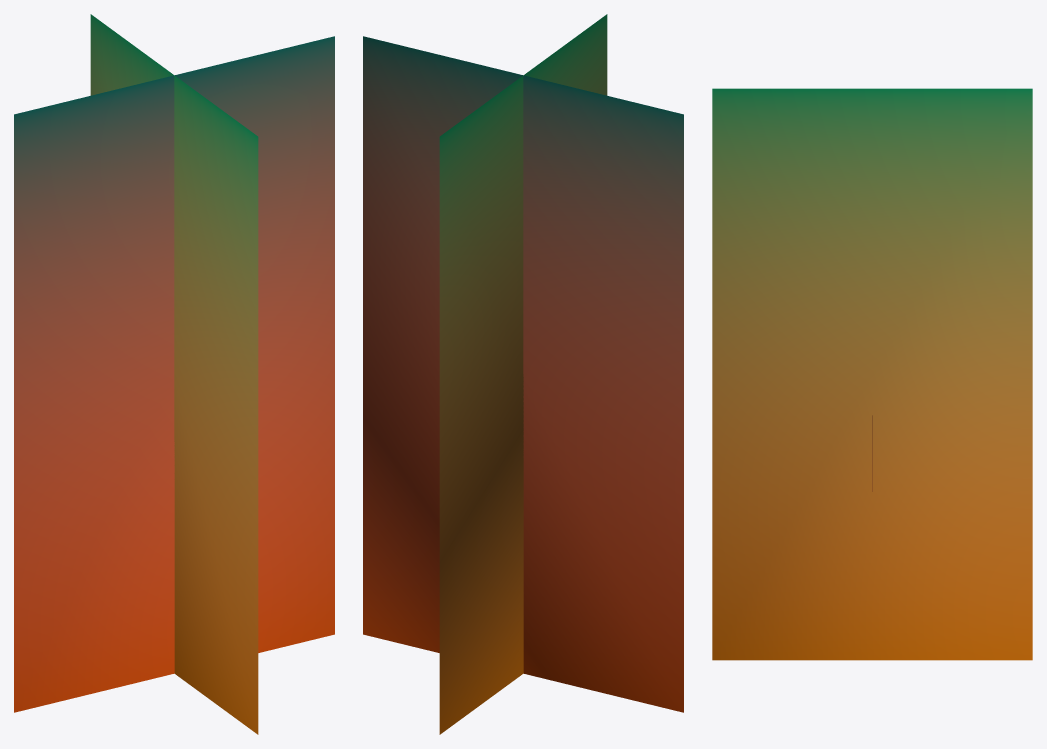
Rendered from SM_Flower_Yarrow_B_LOD3.fbx.
3 renders of one model, left to right at view 1: azimuth 30°, elevation 25°; view 2: azimuth 150°, elevation 25°; view 3: azimuth 270°, elevation 25°, orthographic. The views are drawn at different scales.
Visible parts, largest first — view 1: SM_Flower_Yarrow_B_LOD3; view 2: SM_Flower_Yarrow_B_LOD3; view 3: SM_Flower_Yarrow_B_LOD3.
Boxes of the visible parts, box(x1,y1,x2,y2) form: SM_Flower_Yarrow_B_LOD3: box(14, 14, 334, 734); SM_Flower_Yarrow_B_LOD3: box(363, 14, 683, 734); SM_Flower_Yarrow_B_LOD3: box(712, 88, 1032, 660).
Size of the model in its own units: 0.3424 by 0.6102 by 0.3097.
